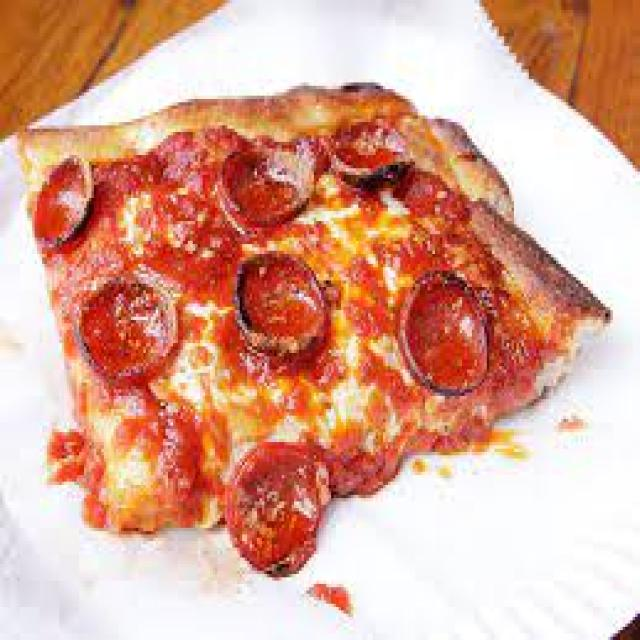Pizza: (36, 117, 562, 500)
